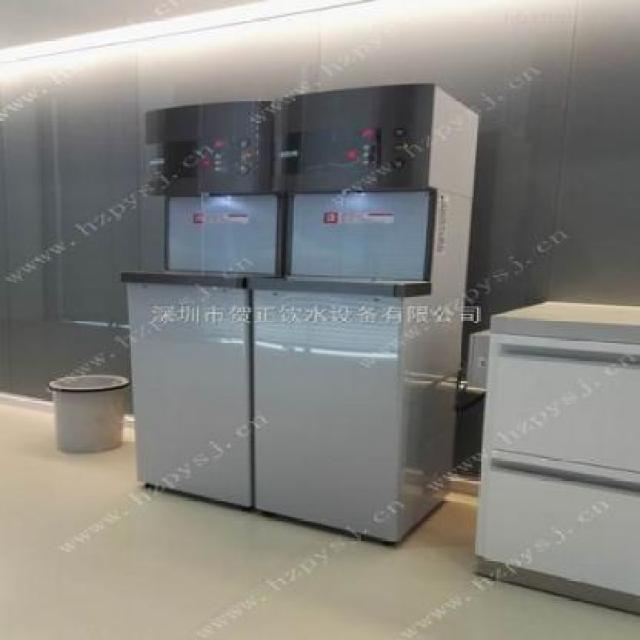cooler: (118, 78, 480, 554)
